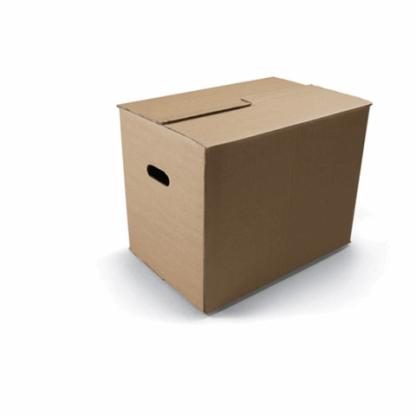box: (114, 74, 374, 316)
